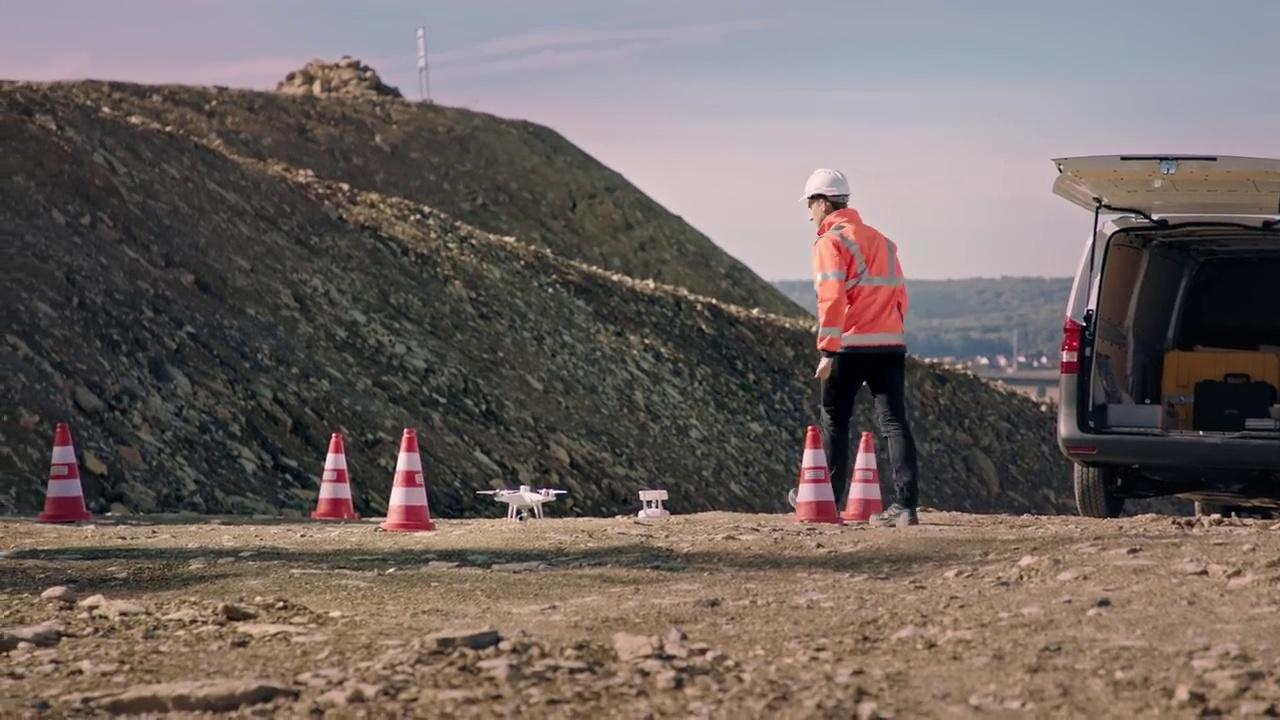drone: (476, 483, 567, 522)
